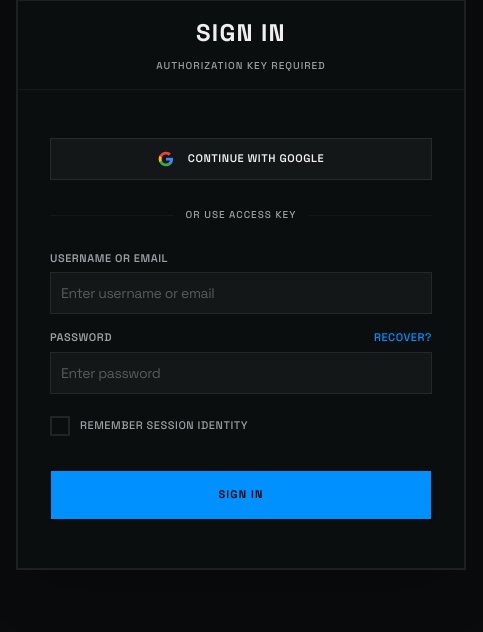
it: LoginForm Component › validates minimum length for username and password
In the field labelled "Username or Email": (241,293) x1=50 y1=272 x2=432 y2=314, type "ab"
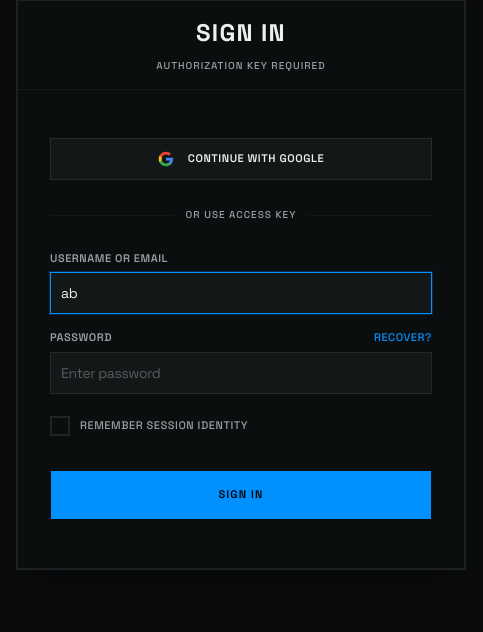
In the password field labelled "Password": (241,373) x1=50 y1=352 x2=432 y2=394, type "123"
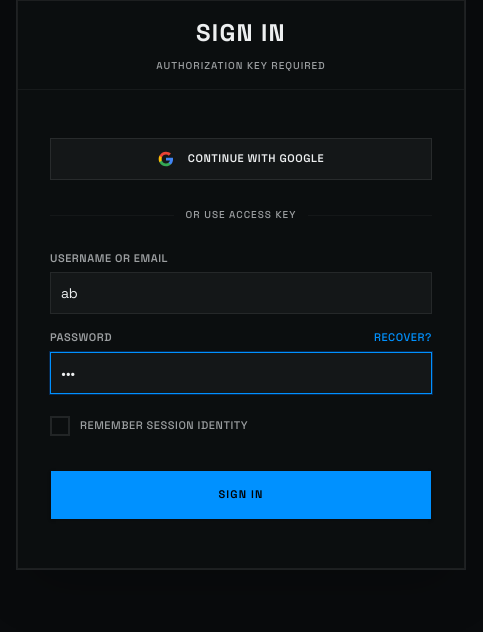
Click the button "Sign In": (241,495) x1=50 y1=470 x2=432 y2=520
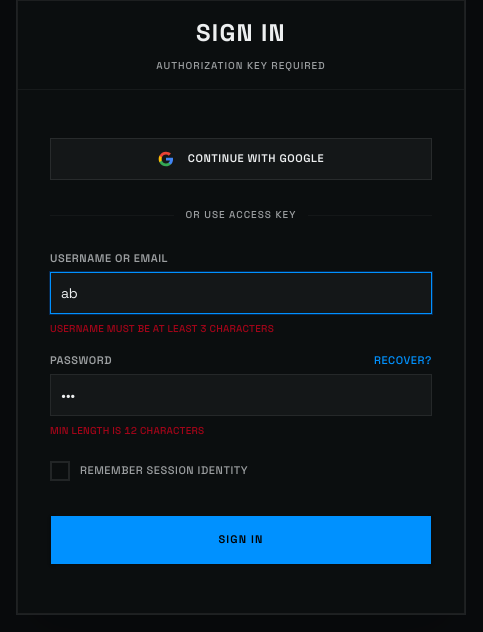
Expected: the text "Username must be at least 3 characters" is shown, x1=50 y1=322 x2=274 y2=335
Expected: the text "Min length is 12 characters" is shown, x1=50 y1=424 x2=204 y2=437
